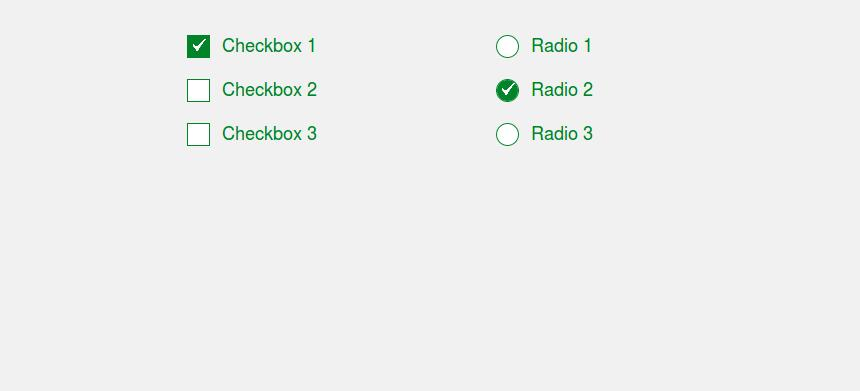checkbox: (174, 117, 223, 161), (171, 25, 217, 62), (177, 74, 222, 110)
radiobutton: (482, 118, 527, 155), (482, 72, 527, 107), (485, 30, 524, 62)
